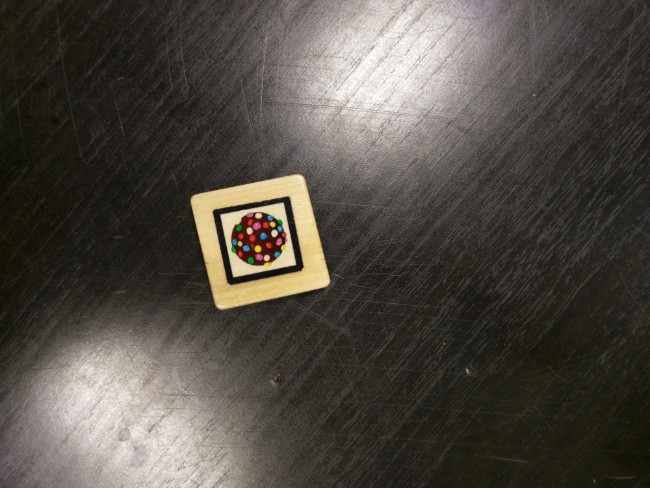cookie: (213, 199, 305, 283)
